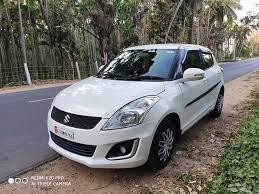Hatchback: (46, 43, 226, 172)
